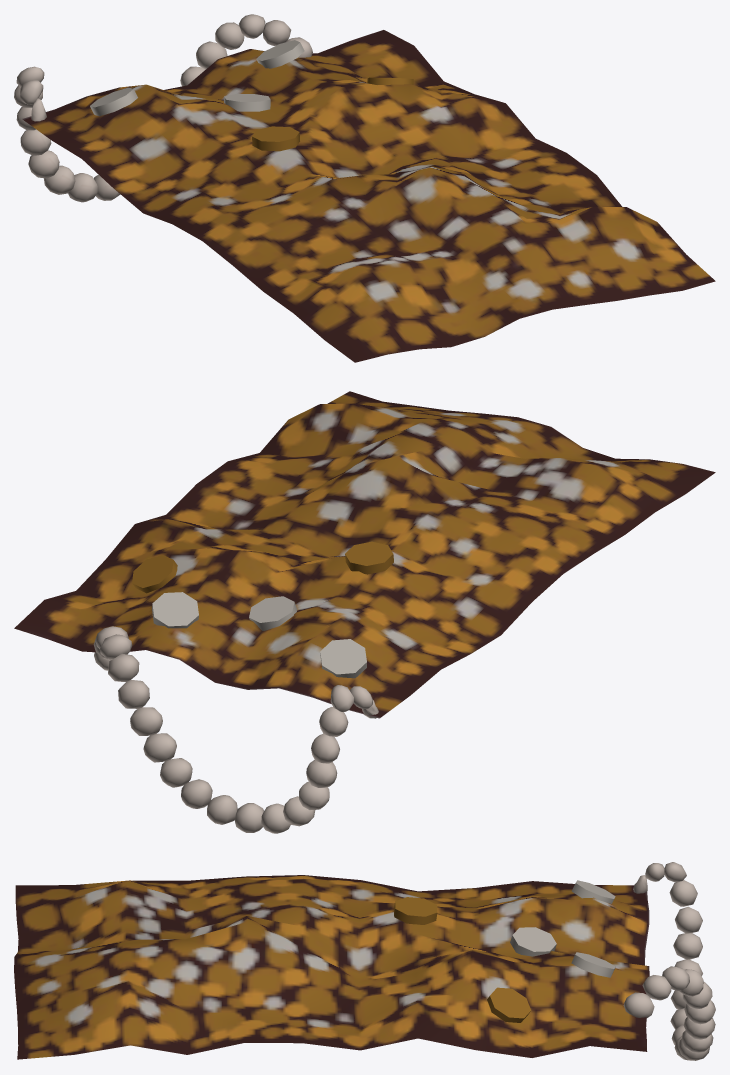
File: Jewellery.fbx
The picture shows the model from 3 angles, top to bottom: view 1: azimuth 30°, elevation 25°; view 2: azimuth 150°, elevation 25°; view 3: azimuth 270°, elevation 25°; orthographic projection. The views are drawn at different scales.
Parts seen in each view (by area): view 1: jewellery, necklace, coins4, coins1, coins5, coins3; view 2: jewellery, necklace, coins5, coins1, coins4, coins2, coins3; view 3: jewellery, necklace, coins2, coins3, coins4, coins1, coins5.
Boxes of the visible parts, box(x1,y1,x2,y2) form: jewellery: box(22, 30, 715, 362); necklace: box(14, 14, 312, 202); coins4: box(252, 126, 299, 151); coins1: box(256, 40, 304, 68); coins5: box(90, 87, 137, 116); coins3: box(224, 94, 270, 111); jewellery: box(14, 391, 715, 718); necklace: box(93, 626, 378, 833); coins5: box(320, 639, 366, 678); coins1: box(152, 592, 198, 628); coins4: box(345, 541, 393, 574); coins2: box(132, 554, 177, 593); coins3: box(249, 596, 297, 630); jewellery: box(14, 875, 649, 1059); necklace: box(623, 862, 715, 1060); coins2: box(487, 987, 530, 1022); coins3: box(510, 927, 556, 956); coins4: box(394, 897, 437, 924); coins1: box(571, 952, 615, 977); coins5: box(571, 880, 615, 903).
Bounding box in the file's own units: 2.31 × 1.09 × 4.07.
